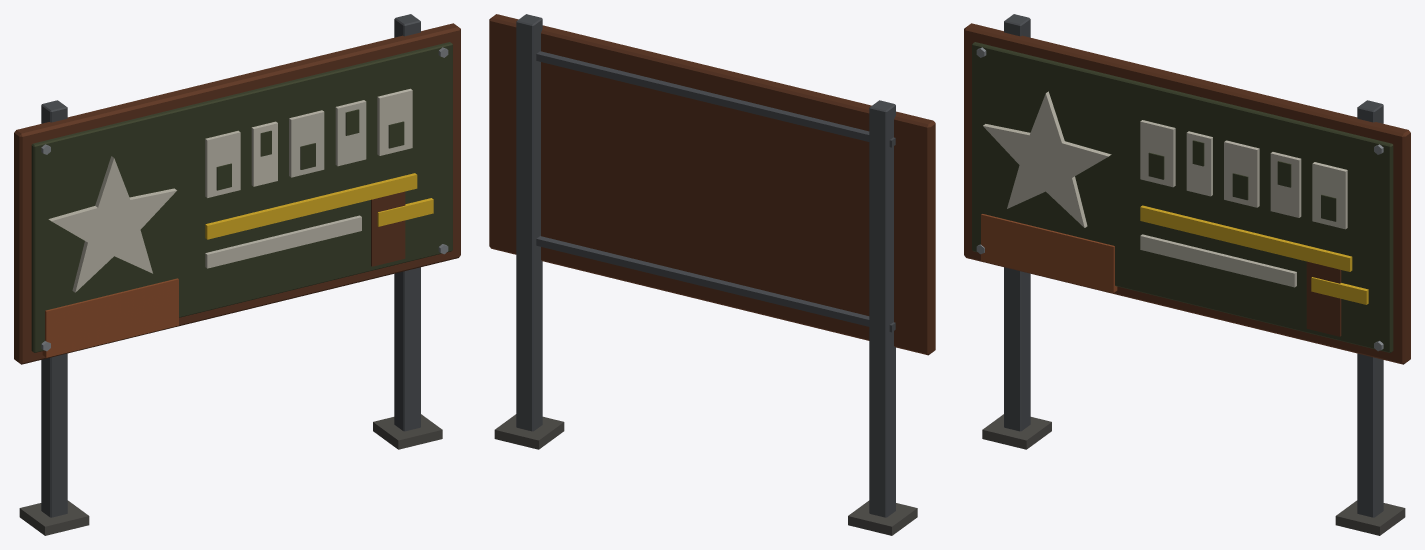
The model's file is lmk_sign_military.fbx.
3 renders of one model, left to right at view 1: azimuth 30°, elevation 25°; view 2: azimuth 150°, elevation 25°; view 3: azimuth 330°, elevation 25°, orthographic.
Visible parts, largest first — view 1: lmk_sign_military; view 2: lmk_sign_military; view 3: lmk_sign_military.
Boxes of the visible parts, x1=… form: lmk_sign_military: x1=14, y1=14, x2=460, y2=535; lmk_sign_military: x1=489, y1=14, x2=935, y2=535; lmk_sign_military: x1=964, y1=14, x2=1410, y2=535.
Size of the model in its own units: 4 by 3.6 by 0.445.
